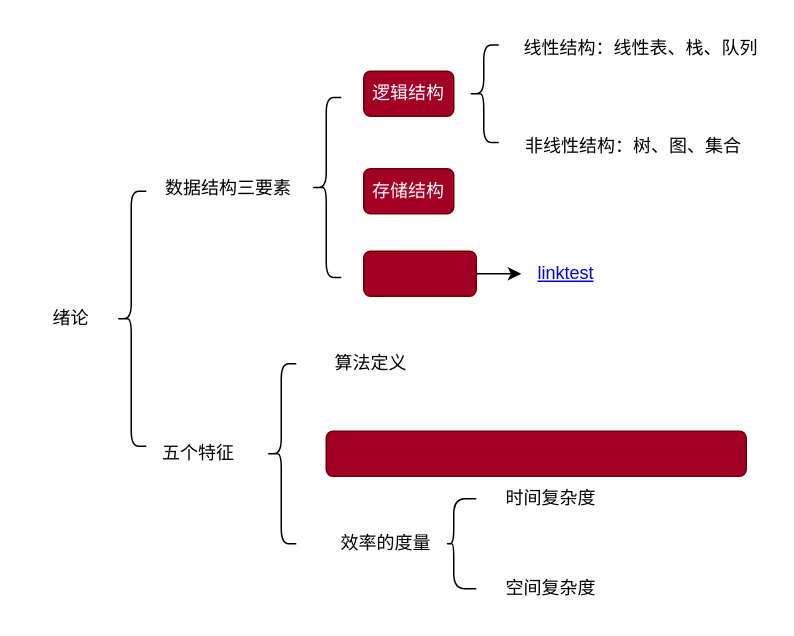
Some shapes in this 794 by 636 pixel diagram are drawn without their labels. Here are the shapes that lost their labels. From the top down, the box of each, then its label:
(362, 250, 476, 296): 数据的运算
(325, 430, 746, 476): 五个特征：有穷性、稳定性、可行性、输入、输出
